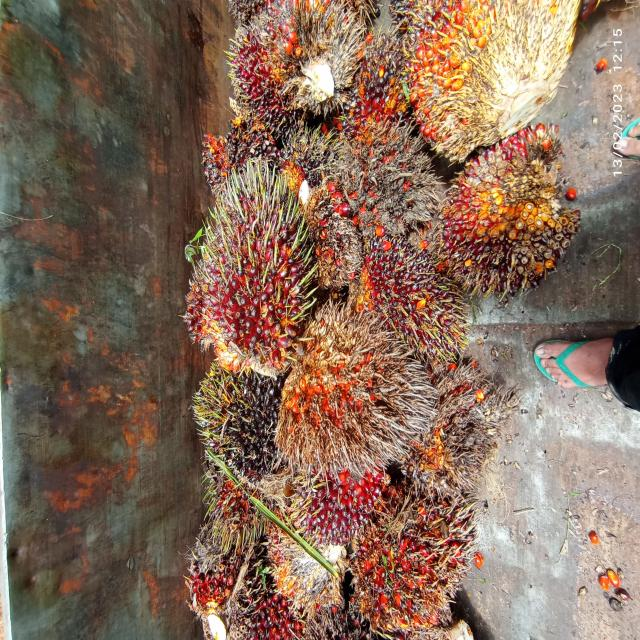fraksi 00: (178, 339, 282, 485)
fraksi 1: (174, 499, 350, 640), (345, 229, 491, 374), (224, 4, 378, 133)
fraksi 3: (159, 127, 342, 423), (402, 0, 576, 162), (425, 121, 593, 288), (278, 467, 381, 545)
fraksi 4: (259, 301, 460, 486), (354, 481, 470, 640)
